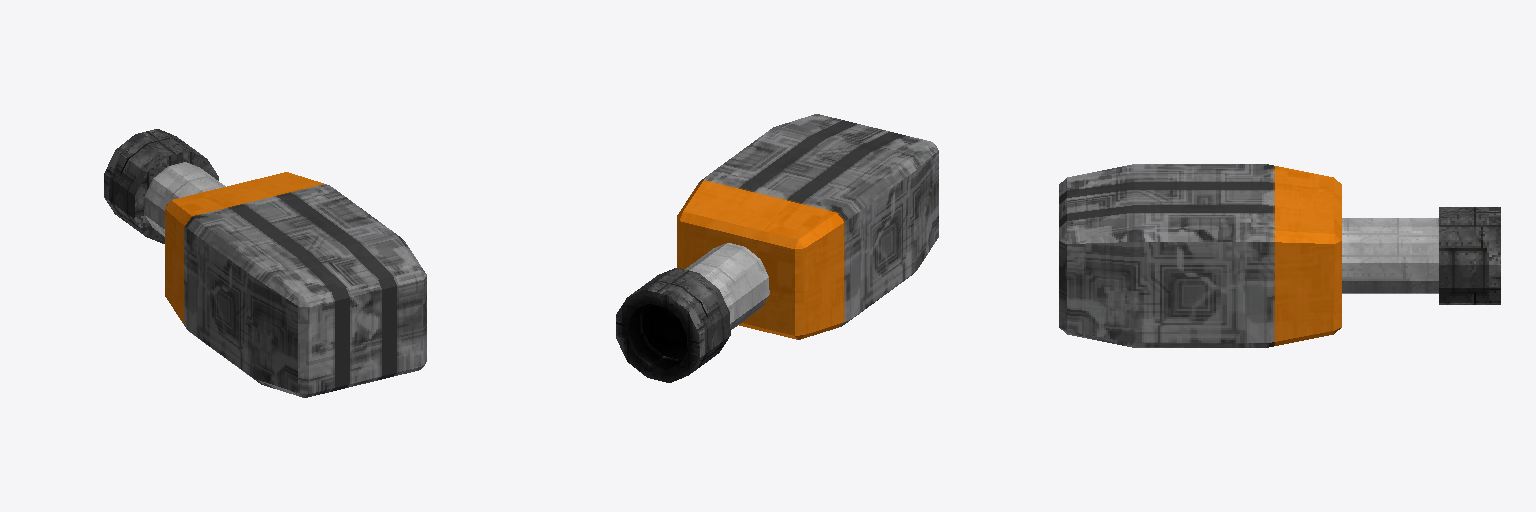
3 renders of one model, left to right at view 1: azimuth 30°, elevation 25°; view 2: azimuth 150°, elevation 25°; view 3: azimuth 270°, elevation 25°, orthographic.
Parts seen in each view (by area): view 1: w_flame; view 2: w_flame; view 3: w_flame.
Part boxes in pixels (x1,y1,x2,y2): w_flame: (104,129,426,397); w_flame: (616,114,938,382); w_flame: (1059,164,1500,347).
Bounding box in the file's own units: 1.57 × 1.17 × 3.99.
1 materials, 1 textured.